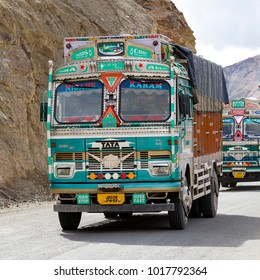truck: (44, 36, 220, 229), (220, 100, 260, 189)
